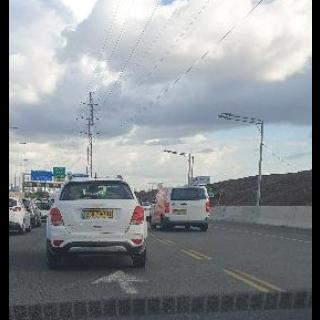LicensePlate: (85, 211, 109, 217)
